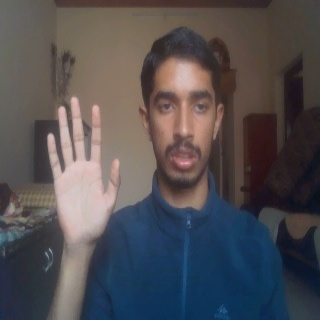Face: (136, 25, 227, 193)
Hello: (43, 94, 124, 255)
